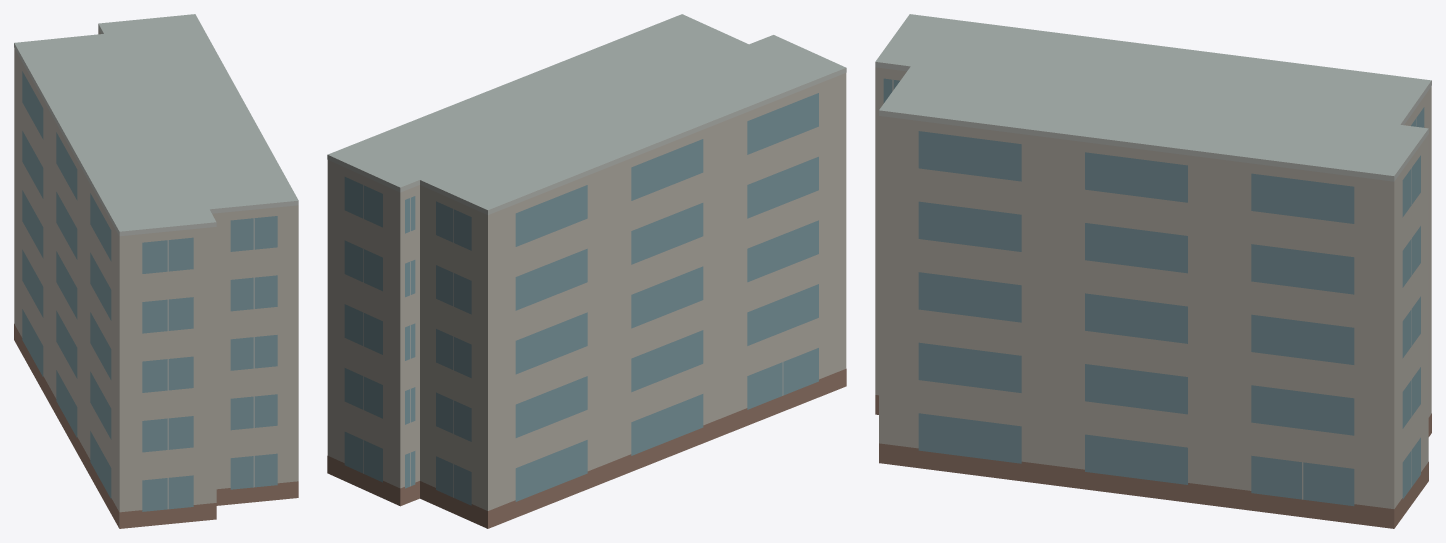
File: survey-upis-33021609.glb
The picture shows the model from 3 angles, left to right: view 1: azimuth 30°, elevation 25°; view 2: azimuth 150°, elevation 25°; view 3: azimuth 270°, elevation 25°; orthographic projection. The views are drawn at different scales.
Visible parts, largest first — view 1: survey-upis-33021609.tmp; view 2: survey-upis-33021609.tmp; view 3: survey-upis-33021609.tmp.
Part boxes in pixels (x1,y1,x2,y2): survey-upis-33021609.tmp: [14, 14, 298, 528]; survey-upis-33021609.tmp: [327, 14, 846, 528]; survey-upis-33021609.tmp: [875, 14, 1431, 528].
Bounding box in the file's own units: 15.49 × 15.7 × 22.46.
